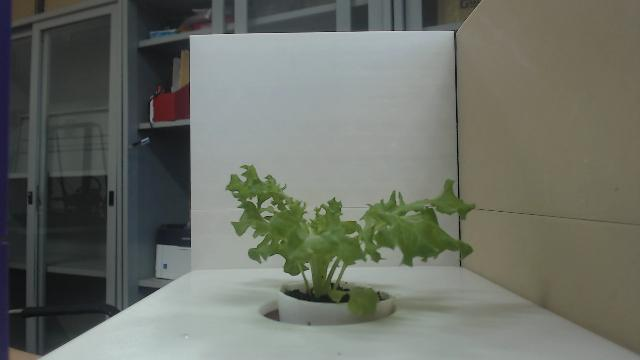Vegetative Stage: (224, 163, 476, 319)
